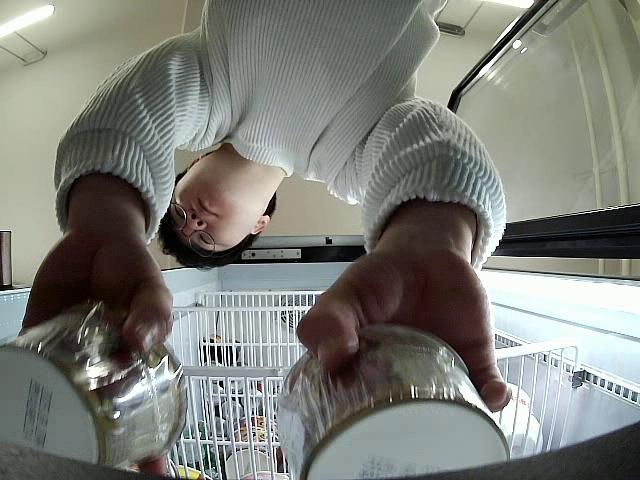00_hand: (17, 237, 173, 478), (295, 245, 512, 415)
04_chapagetti_S: (274, 329, 511, 480), (4, 313, 189, 469)
